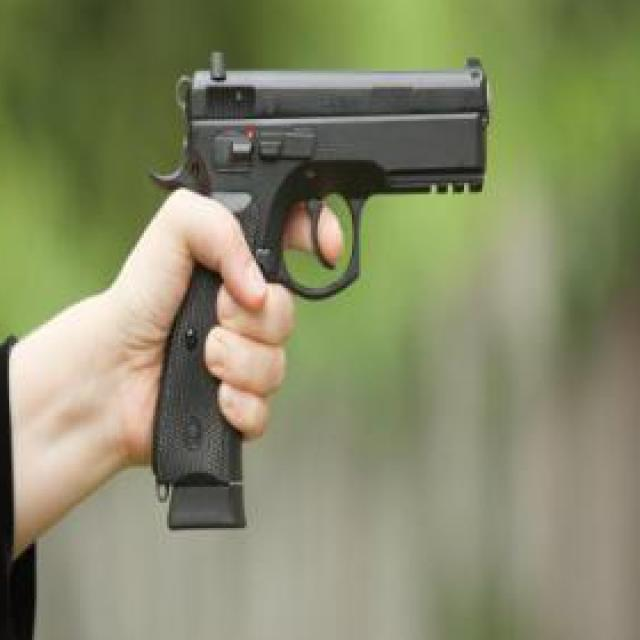pistol: (150, 53, 496, 536)
